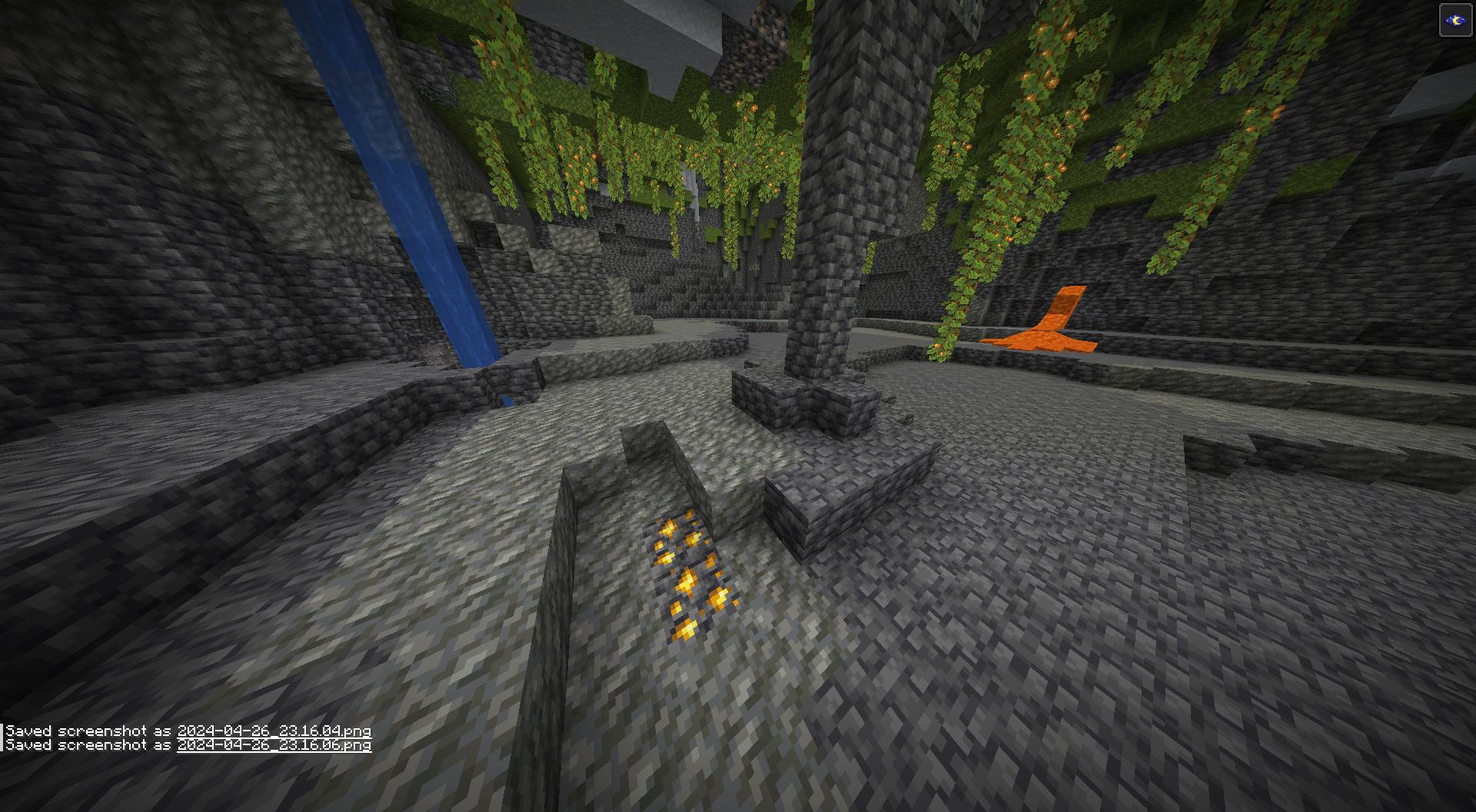gold ore: (657, 554, 734, 642), (647, 505, 709, 566)
iron ore: (719, 10, 790, 92)
